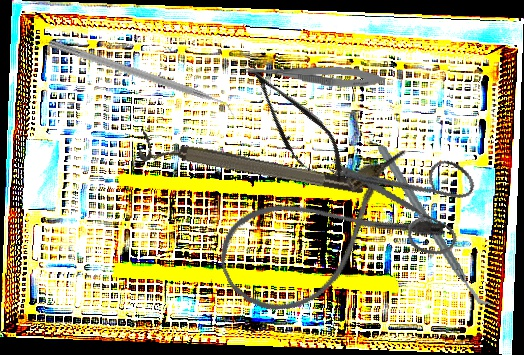Cannula: (205, 143, 450, 329)
Chopper: (375, 131, 495, 322), (43, 38, 242, 123)
Fixation Ring: (137, 129, 366, 208)
Iris Scissors: (323, 121, 491, 280)
Micro Scissor: (232, 52, 358, 195), (238, 61, 386, 90)
